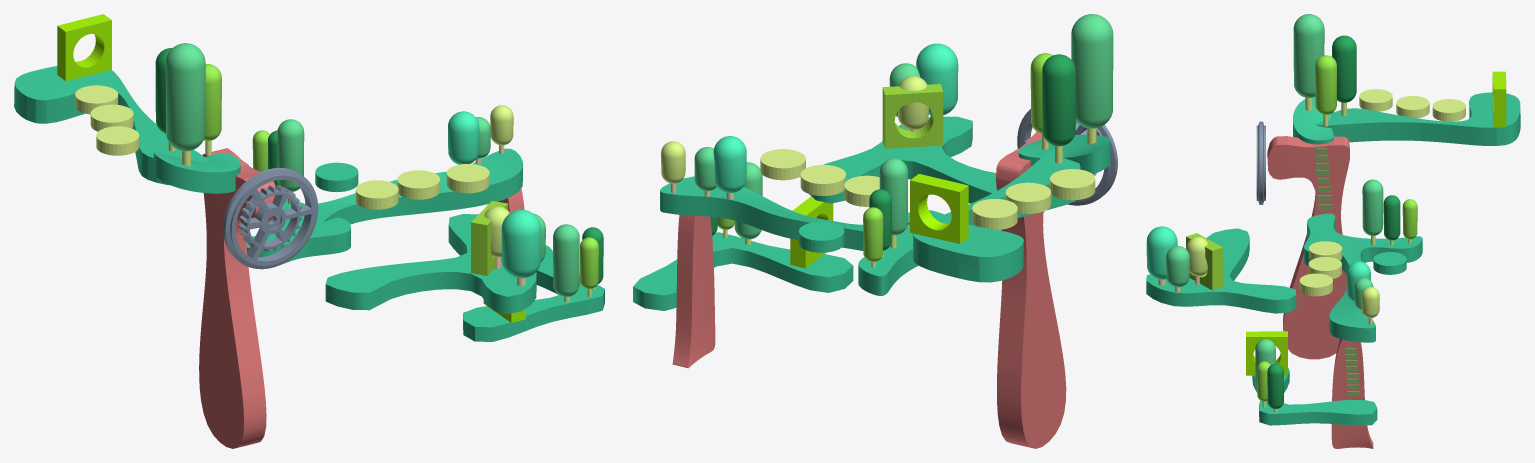
3 renders of one model, left to right at view 1: azimuth 30°, elevation 25°; view 2: azimuth 150°, elevation 25°; view 3: azimuth 270°, elevation 25°, orthographic. The views are drawn at different scales.
Visible parts, largest first — view 1: 立方体.089, 物件_1.007, gear38_gears_0.008, 柱体.304, 柱体.309, 柱体.306, 柱体.305, 柱体.308, 柱体.307; view 2: 立方体.089, 物件_1.007, gear38_gears_0.008, 柱体.309, 柱体.305, 柱体.306, 柱体.307, 柱体.308, 柱体.304; view 3: 立方体.089, 物件_1.007, gear38_gears_0.008, 柱体.306, 柱体.307, 柱体.309, 柱体.308, 柱体.305, 柱体.304.
Part boxes in pixels (x1,y1,x2,y2): 立方体.089: [14, 14, 604, 448]; 物件_1.007: [325, 201, 545, 314]; gear38_gears_0.008: [223, 167, 318, 269]; 柱体.304: [355, 180, 398, 209]; 柱体.309: [96, 126, 139, 155]; 柱体.306: [446, 164, 489, 193]; 柱体.305: [397, 170, 440, 199]; 柱体.308: [90, 104, 133, 131]; 柱体.307: [75, 85, 118, 114]; 立方体.089: [633, 14, 1113, 448]; 物件_1.007: [809, 43, 1044, 212]; gear38_gears_0.008: [1017, 109, 1117, 205]; 柱体.309: [1050, 169, 1095, 200]; 柱体.305: [800, 165, 845, 195]; 柱体.306: [760, 149, 805, 180]; 柱体.307: [972, 199, 1017, 229]; 柱体.308: [1005, 182, 1051, 213]; 柱体.304: [844, 175, 879, 206]; 立方体.089: [1246, 14, 1520, 448]; 物件_1.007: [1146, 226, 1296, 313]; gear38_gears_0.008: [1256, 121, 1265, 204]; 柱体.306: [1299, 273, 1332, 296]; 柱体.307: [1432, 99, 1465, 121]; 柱体.309: [1359, 89, 1392, 111]; 柱体.308: [1396, 96, 1429, 118]; 柱体.305: [1308, 257, 1341, 278]; 柱体.304: [1309, 241, 1342, 260].
Bounding box in the file's own units: 3731 × 3320 × 3523.
